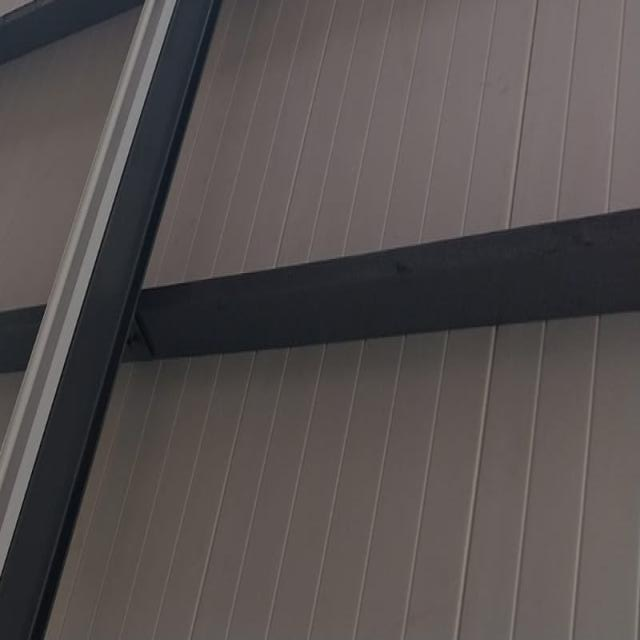fluorescent tube: (0, 0, 204, 640)
